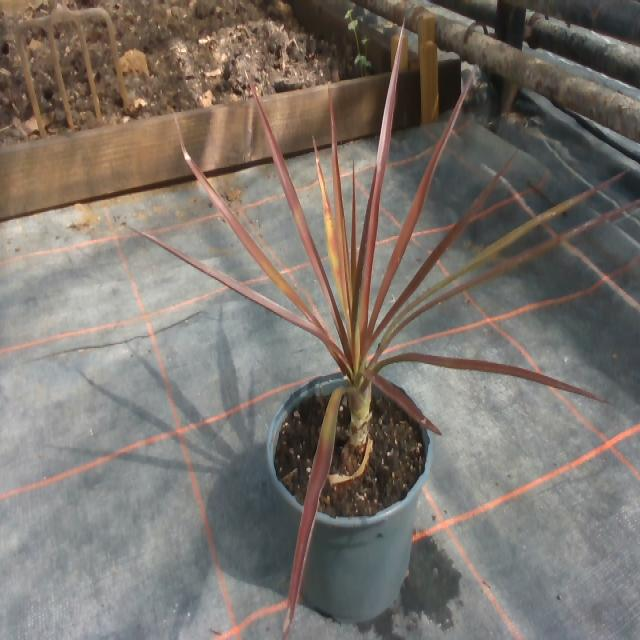Yucca-aloifolia: (384, 173, 622, 337), (176, 120, 326, 336), (383, 217, 599, 349), (249, 79, 350, 356), (370, 83, 468, 323), (371, 169, 504, 339), (137, 231, 329, 345), (282, 387, 346, 639), (372, 353, 606, 401), (361, 59, 398, 328), (365, 372, 440, 433), (315, 147, 343, 301), (330, 96, 349, 321), (350, 163, 357, 285), (599, 204, 635, 221)
